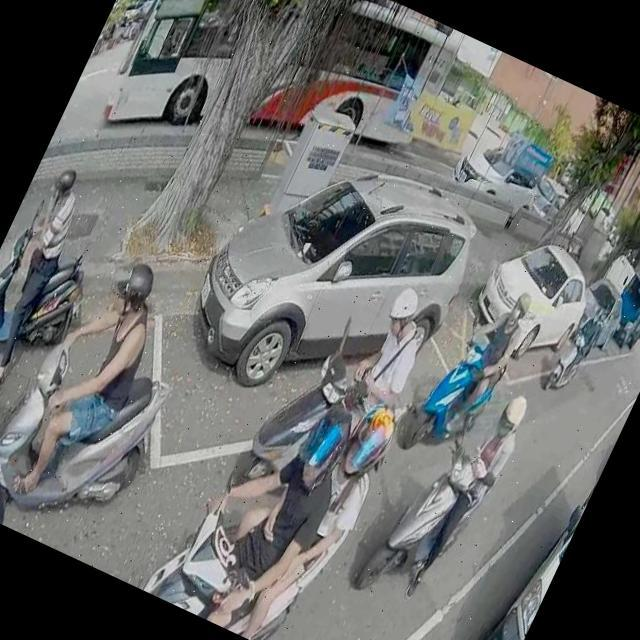person: (157, 366, 370, 640), (199, 366, 405, 640), (0, 236, 186, 523), (396, 374, 538, 612), (0, 154, 102, 400), (418, 279, 541, 457), (334, 277, 446, 437), (560, 302, 613, 382), (0, 460, 23, 525), (122, 0, 150, 40)
